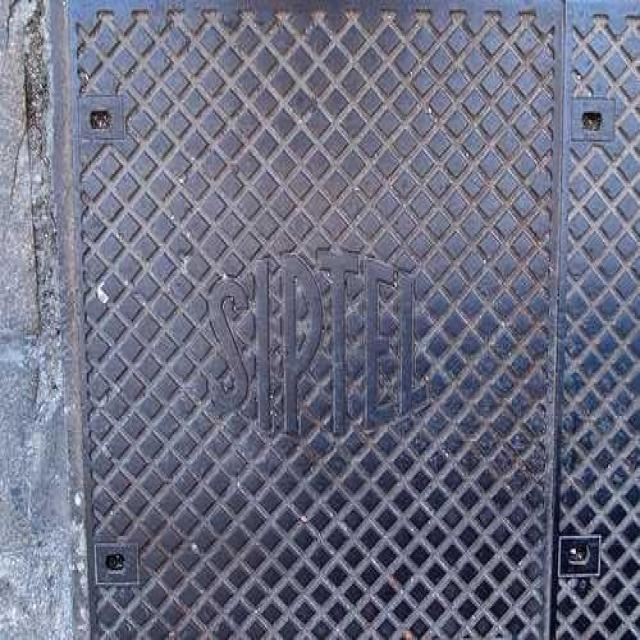manhole: (54, 0, 640, 638)
